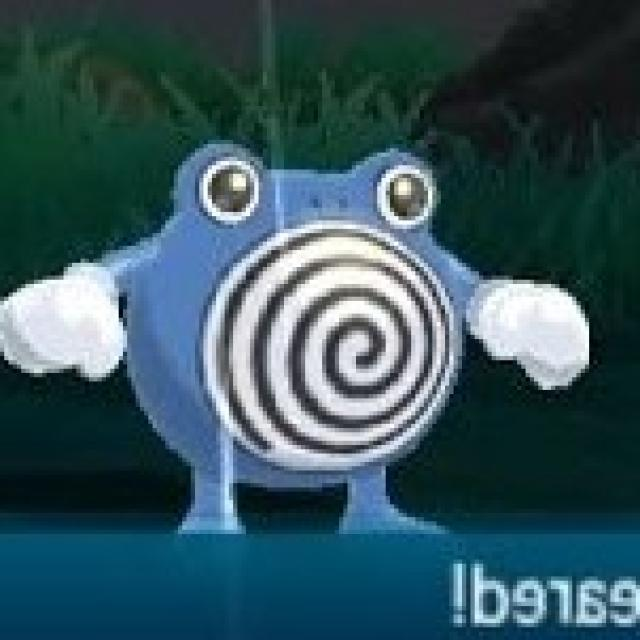Poliwhirl: (44, 145, 555, 520)
